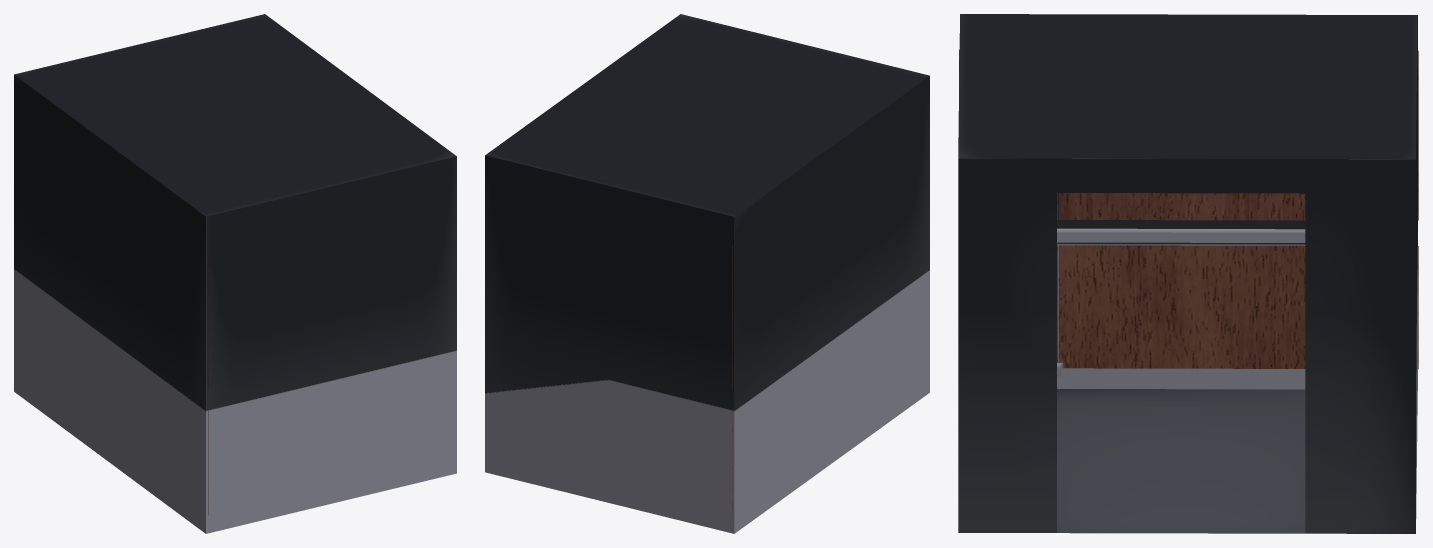
File: ElevatorMainBody.fbx
3 renders of one model, left to right at view 1: azimuth 30°, elevation 25°; view 2: azimuth 150°, elevation 25°; view 3: azimuth 270°, elevation 25°, orthographic. The views are drawn at different scales.
Visible parts, largest first — view 1: Cube.005; view 2: Cube.005; view 3: Cube.005.
Part boxes in pixels (bbox=[...]): Cube.005: bbox=[14, 14, 456, 533]; Cube.005: bbox=[485, 14, 929, 533]; Cube.005: bbox=[958, 14, 1418, 533].
Bounding box in the file's own units: 194 × 233 × 260.
2 materials, 2 textured.
